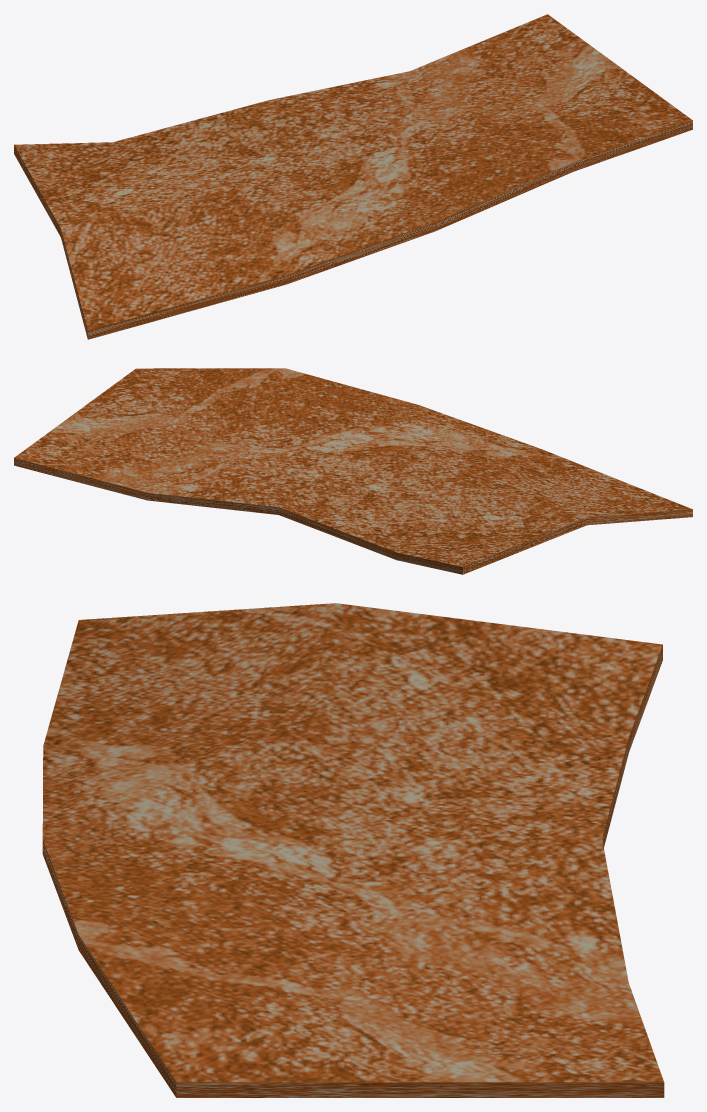
The model's file is UshiModele01.fbx.
3 views of the same model, one above another, from view 1: azimuth 30°, elevation 25°; view 2: azimuth 150°, elevation 25°; view 3: azimuth 270°, elevation 25° (orthographic). The views are drawn at different scales.
Visible parts, largest first — view 1: pCube1; view 2: pCube1; view 3: pCube1.
Part boxes in pixels (bbox=[...]): pCube1: bbox=[14, 14, 692, 339]; pCube1: bbox=[14, 368, 692, 574]; pCube1: bbox=[42, 603, 664, 1097].
Size of the model in its own units: 9.38 by 0.8313 by 4.74.
